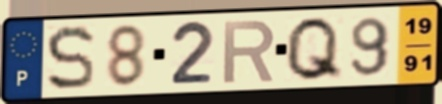2: (168, 18, 217, 88)
8: (103, 23, 148, 90)
9: (348, 14, 392, 79)
Q: (282, 14, 345, 83)
R: (221, 18, 278, 86)
S: (43, 23, 97, 93)
